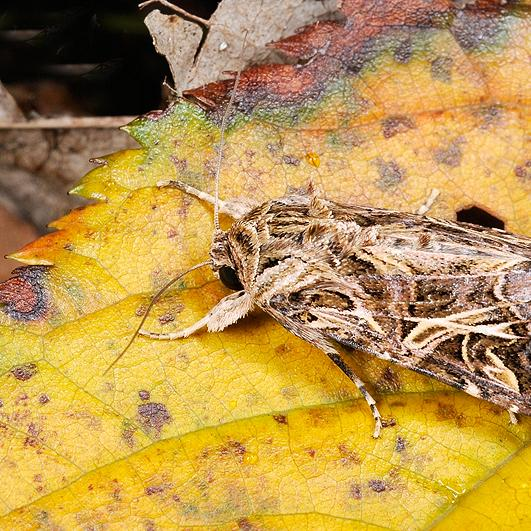Spodoptera litura: (102, 28, 531, 440)
